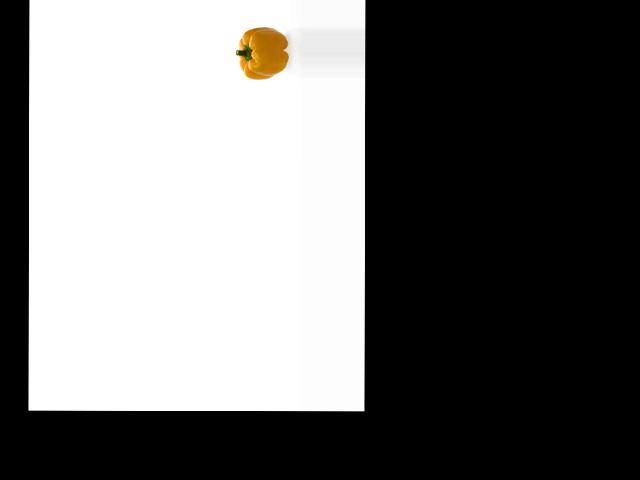bell_pepper: (233, 27, 289, 83)
